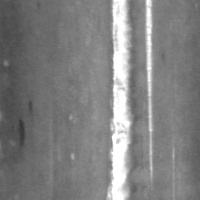inclusion: (14, 116, 28, 151)
scratches: (107, 1, 136, 200), (141, 1, 155, 185)
